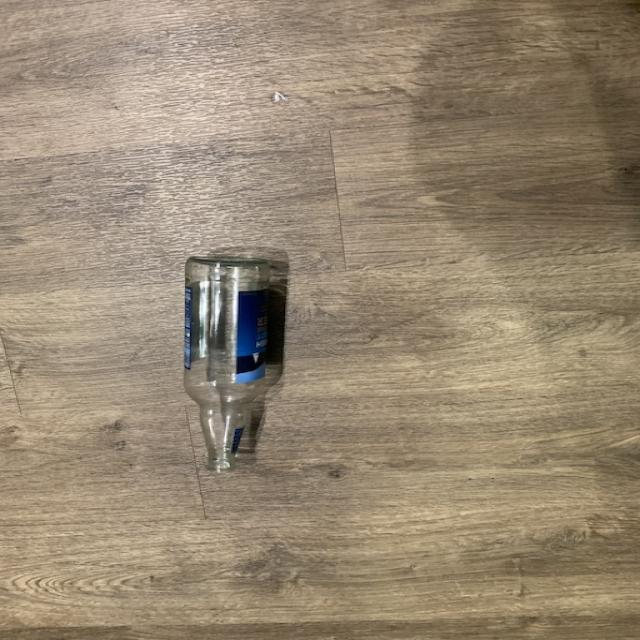litter: (185, 256, 267, 473)
